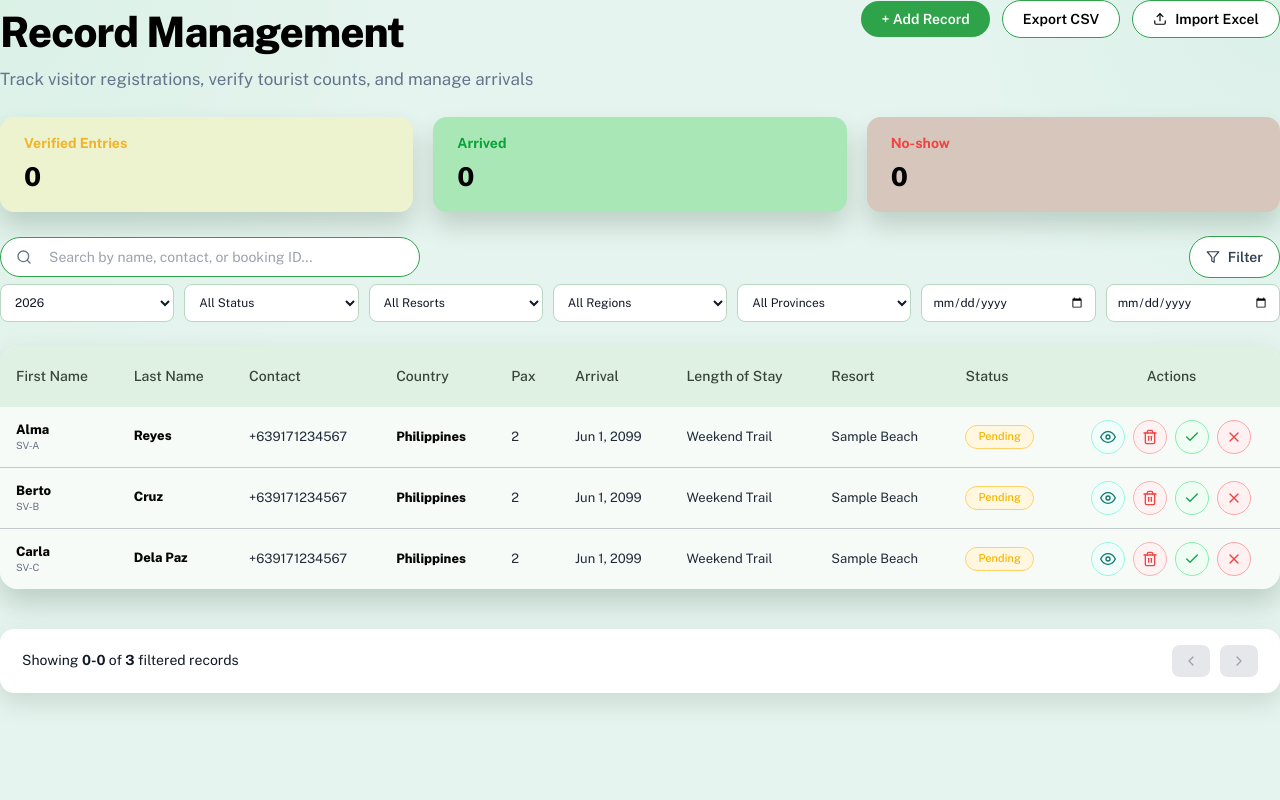
Scenario: the Boat Capacity and Fare dropdown of the record form › selects the tier the record holds
Click the button with class "booking-icon-btn" in the row of "Alma": (1108, 436) x1=1091 y1=420 x2=1125 y2=454
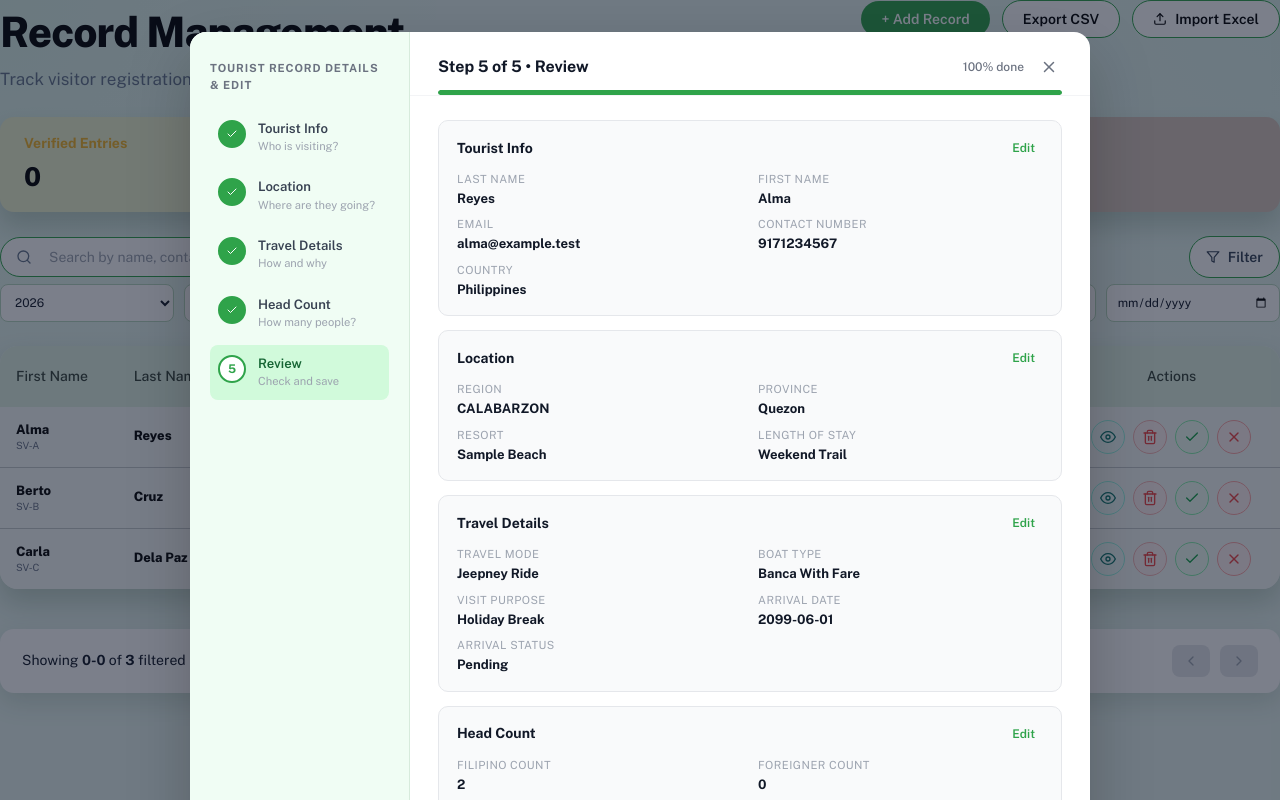
Result: the text "Tourist Record Details & Edit" is shown at x1=210 y1=60 x2=389 y2=94
Click the text "Travel Details": (280, 254) x1=218 y1=237 x2=342 y2=270
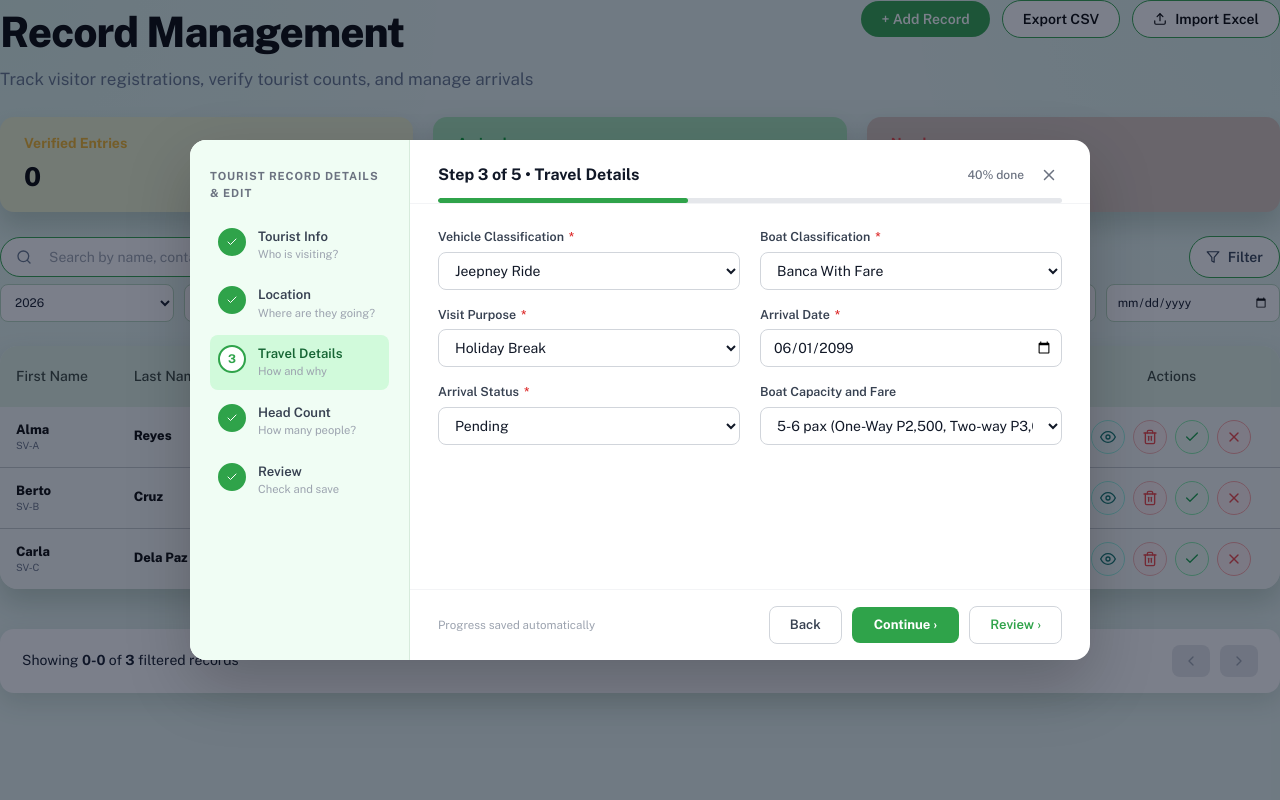
Result: the dropdown "Select capacity and fare" below "Boat Capacity and Fare" is enabled at x1=760 y1=407 x2=1062 y2=445
